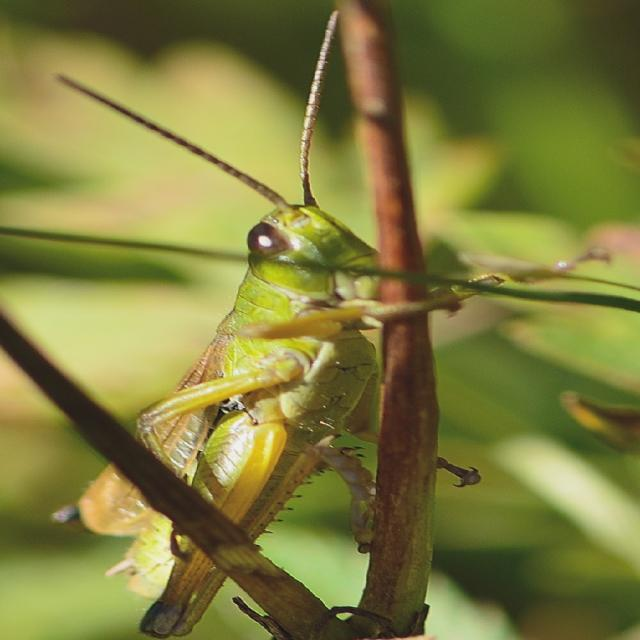ZhaMeng: (46, 144, 488, 634)
